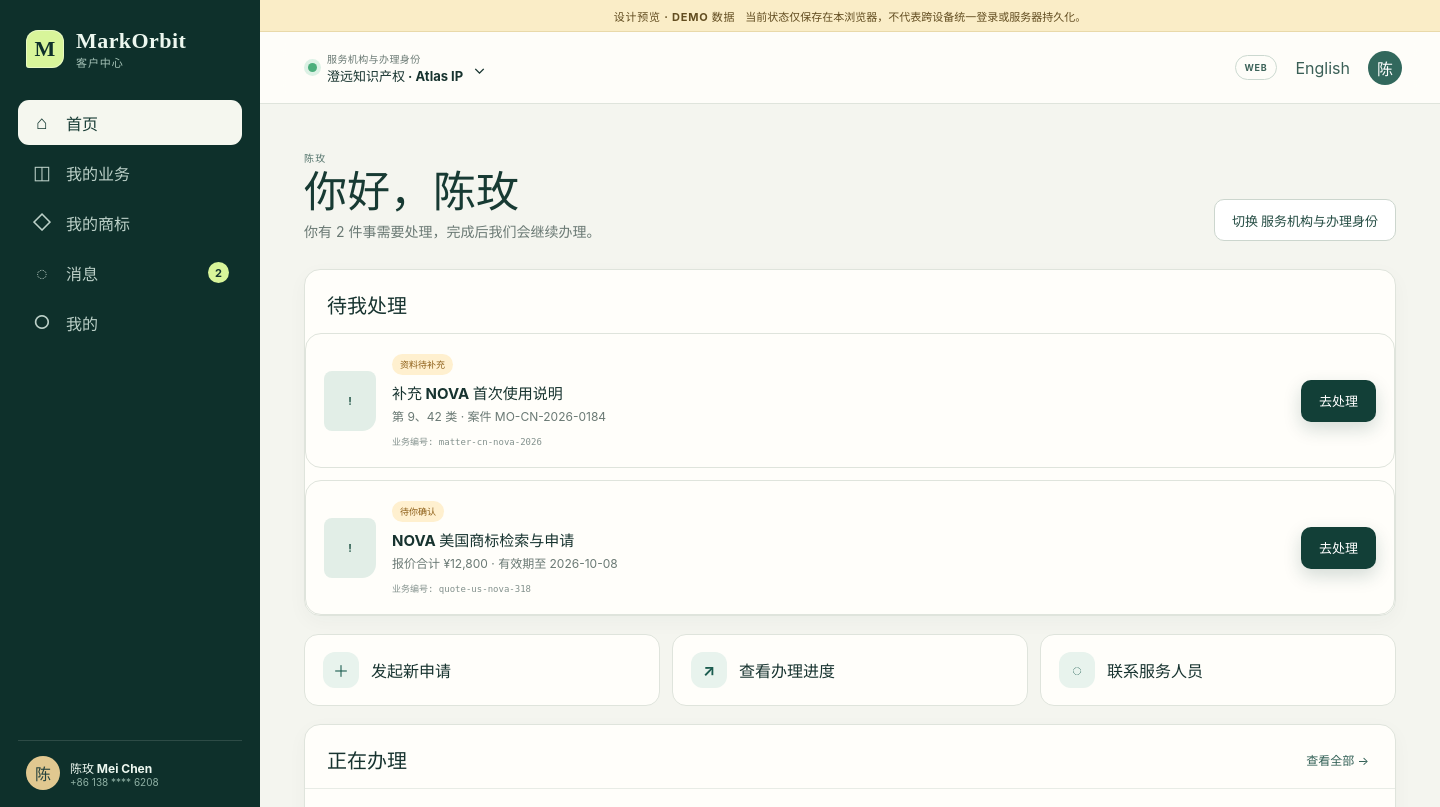
Test: Customer Portal V1.2 preview › isolates another customer in the same Workspace
What coordinates should you click on to do the following:
click the button "服务机构与办理身份 澄远知识产权 · Atlas IP ⌄"
I would click on:
 (397, 68)
Its box is [298,42,496,92].
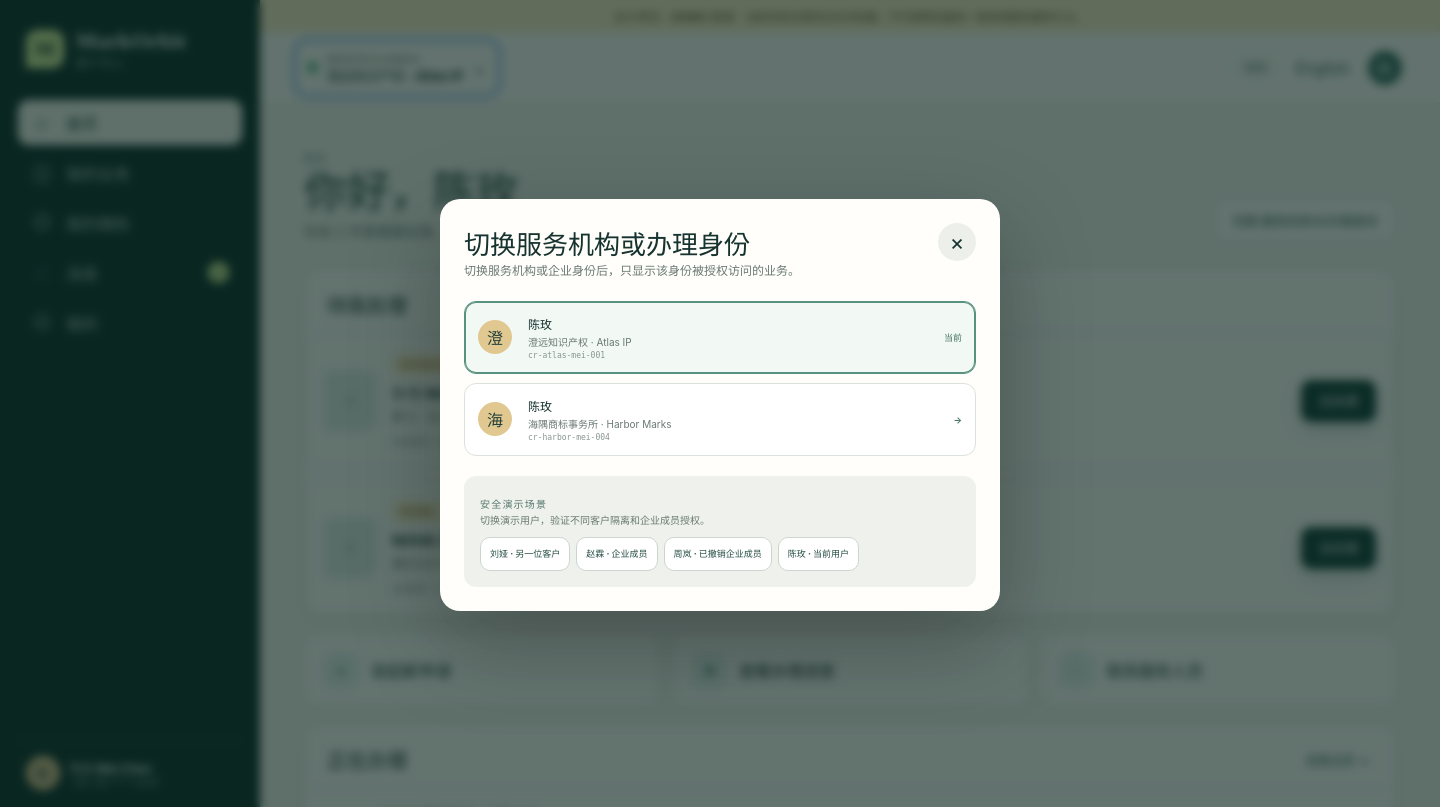
What coordinates should you click on to do the following:
click the button "刘娅 · 另一位客户"
I would click on:
 (525, 554)
Its box is [480,537,570,571].
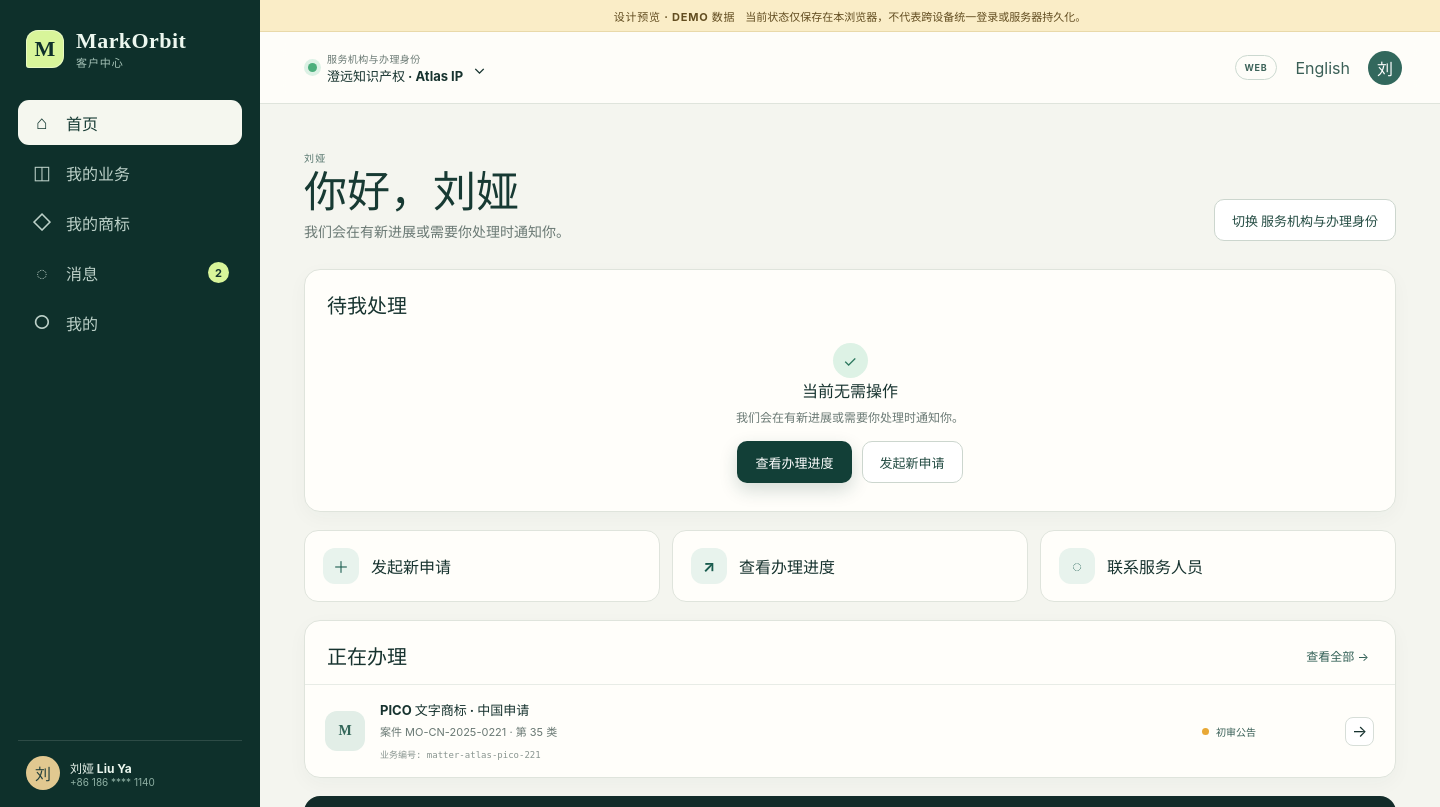
expect the heading "PICO 文字商标 · 中国申请" is shown: met, box [380,702,529,718]
expect the heading "NOVA 美国商标检索与申请" is gone: met
